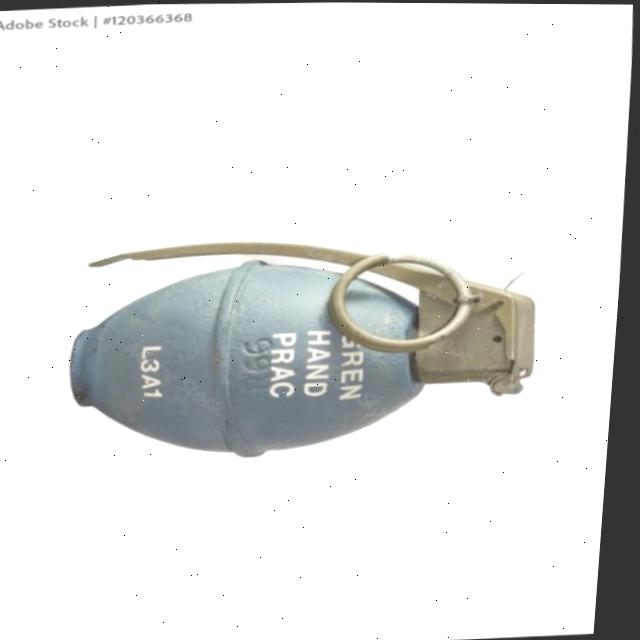grenade: (51, 217, 571, 472)
